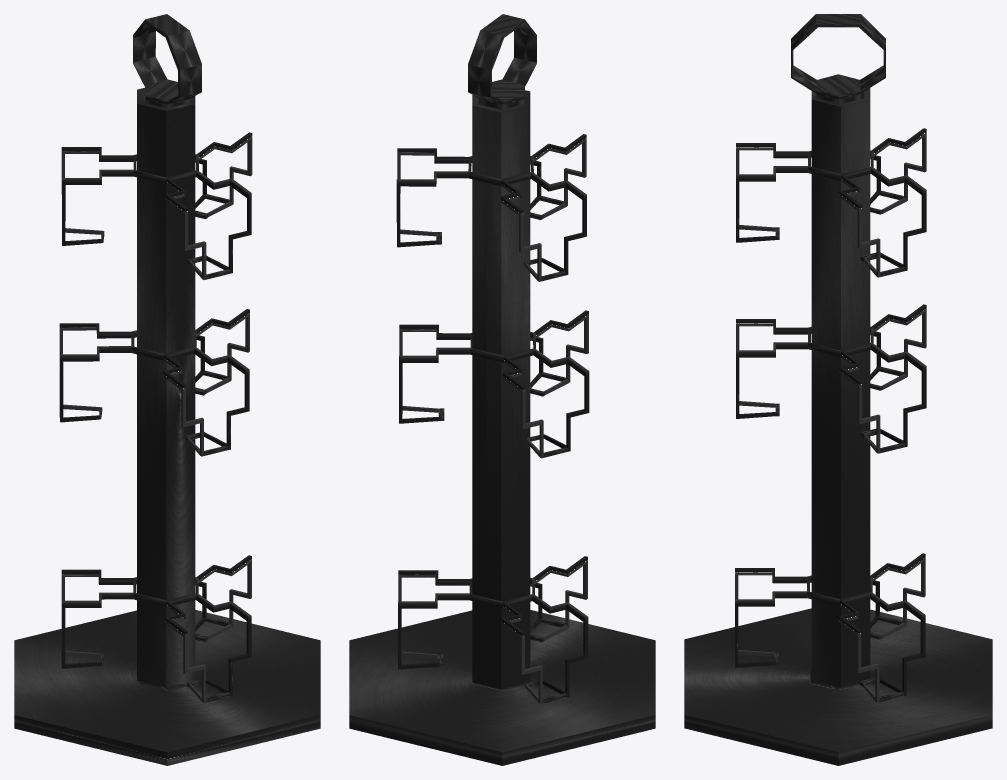
Rendered from cardcarousel.fbx.
The picture shows the model from 3 angles, left to right: view 1: azimuth 30°, elevation 25°; view 2: azimuth 150°, elevation 25°; view 3: azimuth 270°, elevation 25°; orthographic projection.
Parts seen in each view (by area): view 1: base, pole, carrholder, carrholder1, carrholder2; view 2: base, pole, carrholder1, carrholder, carrholder2; view 3: base, pole, carrholder, carrholder1, carrholder2.
Part boxes in pixels (x1,y1,x2,y2): base: (14,14,320,765); pole: (137,88,195,687); carrholder: (61,555,251,702); carrholder1: (59,309,249,456); carrholder2: (61,132,252,279); base: (349,14,655,765); pole: (472,90,530,689); carrholder1: (399,310,589,458); carrholder: (398,556,588,703); carrholder2: (396,134,586,281); base: (684,14,992,765); pole: (811,88,870,687); carrholder: (735,553,925,702); carrholder1: (736,304,926,453); carrholder2: (736,128,926,277).
Size of the model in its own units: 0.9706 by 2.02 by 0.8405.
